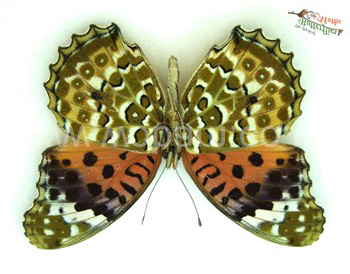Argyreus hyperbius: (22, 19, 328, 249)
butterfly: (22, 20, 328, 250)
